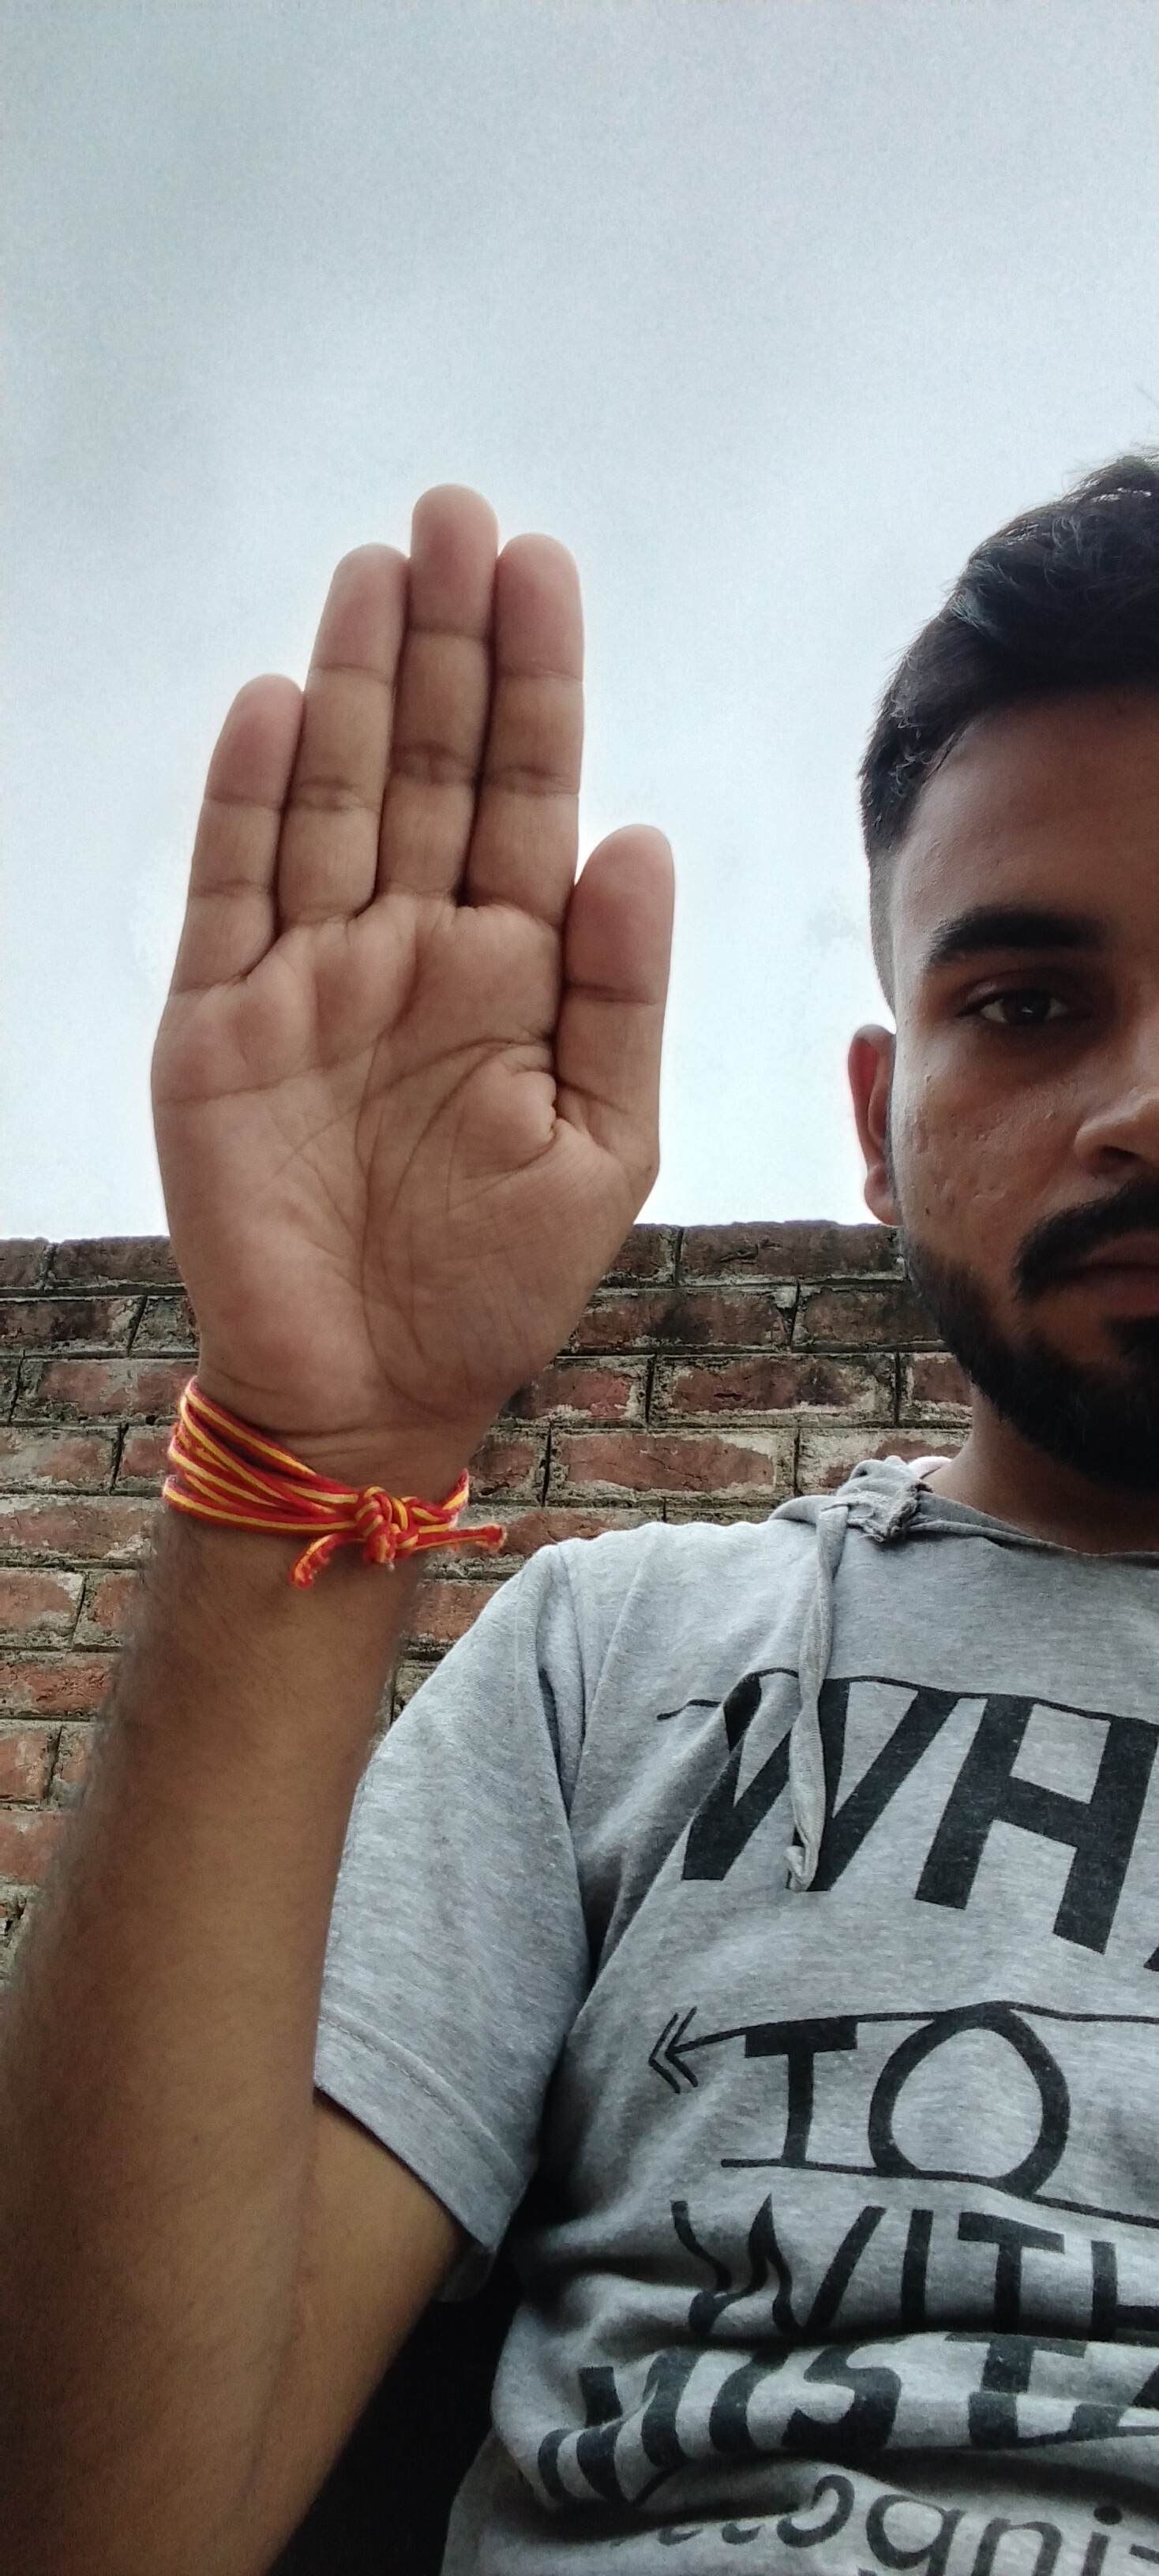Hello: (133, 463, 692, 1462)
